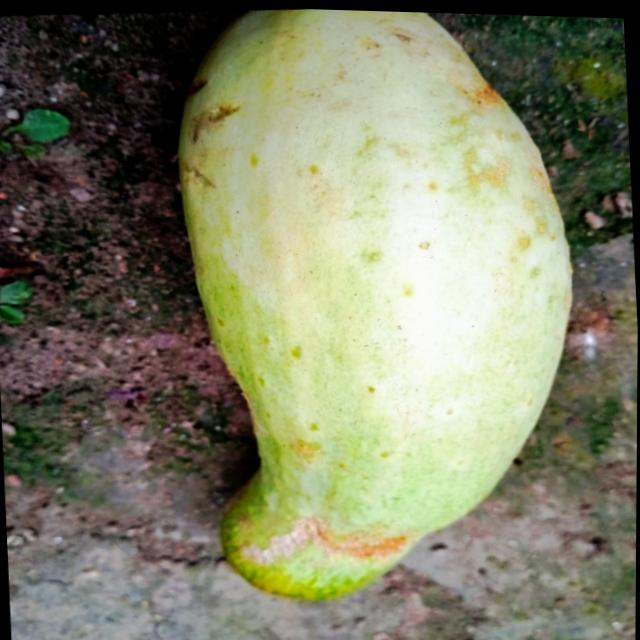Belly-Rot: (236, 496, 421, 574), (459, 72, 509, 115)
